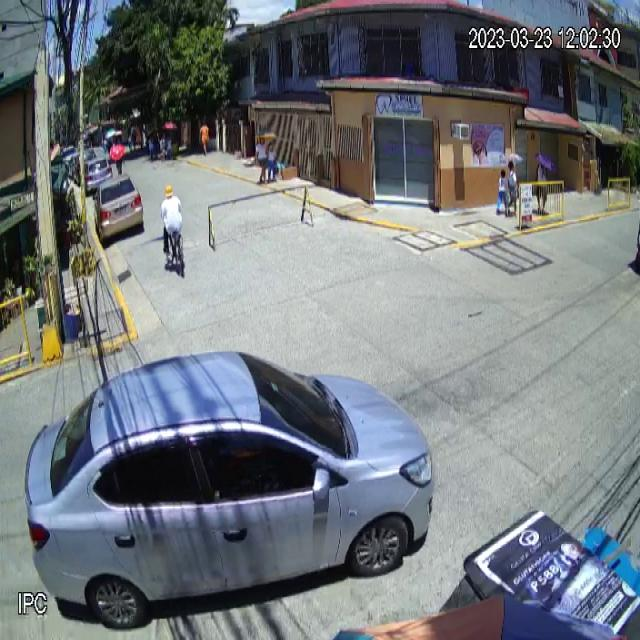Car: (22, 349, 436, 629), (92, 172, 144, 244)
